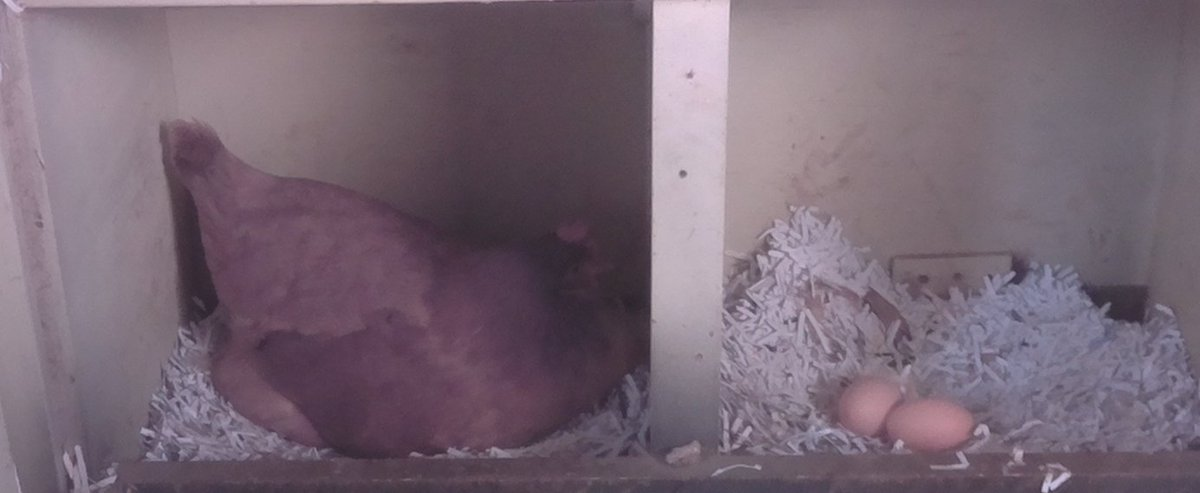egg: (882, 390, 982, 454), (834, 371, 906, 442)
hen: (153, 111, 650, 460)
